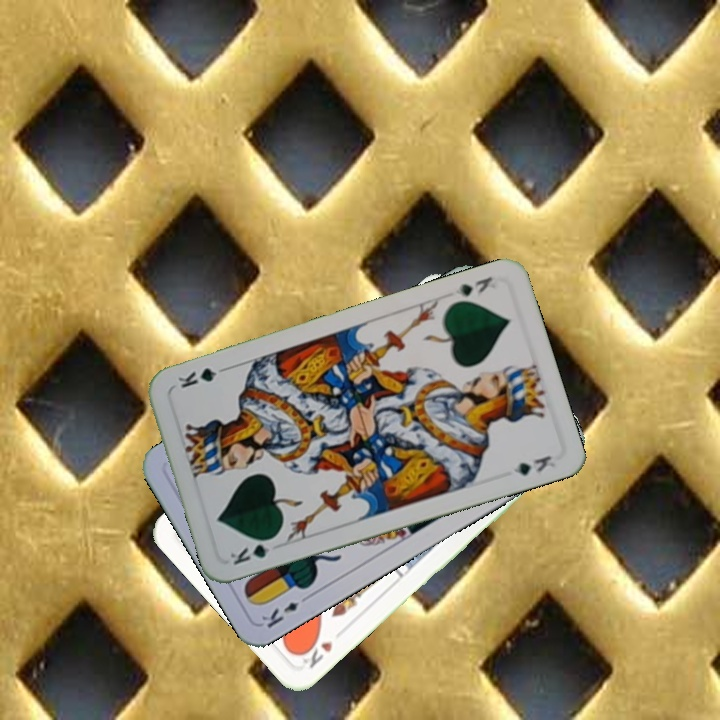EK: (257, 590, 313, 631)
GK: (226, 532, 280, 568), (445, 272, 499, 300)
HK: (294, 633, 336, 671)
